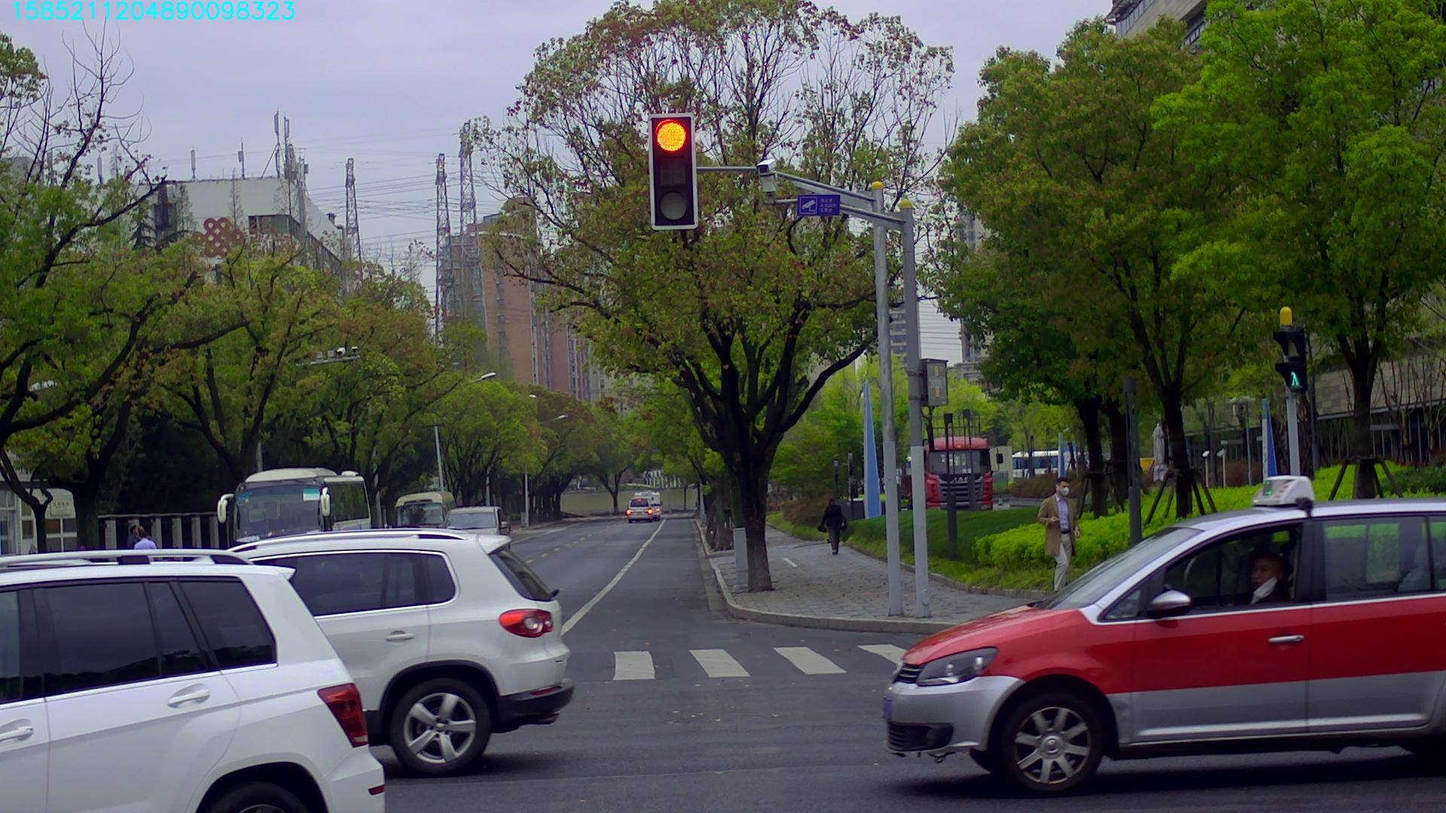red: (649, 115, 695, 226)
